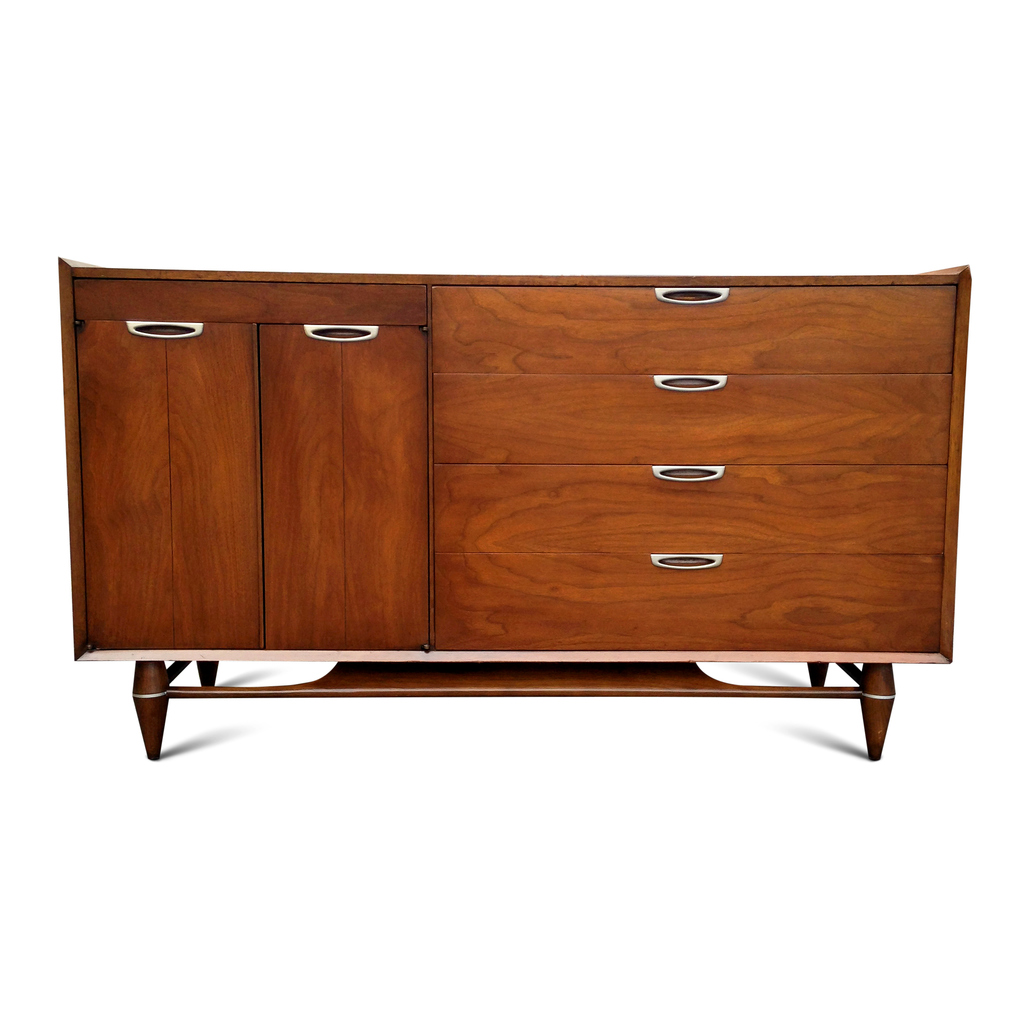cabinet door: (81, 317, 258, 649), (254, 326, 434, 651), (436, 555, 941, 653), (433, 371, 948, 461), (431, 287, 951, 373), (434, 468, 943, 552)
handle: (649, 367, 734, 410), (125, 311, 206, 353), (654, 277, 734, 316), (647, 457, 727, 495), (301, 320, 382, 356), (649, 543, 726, 580)
